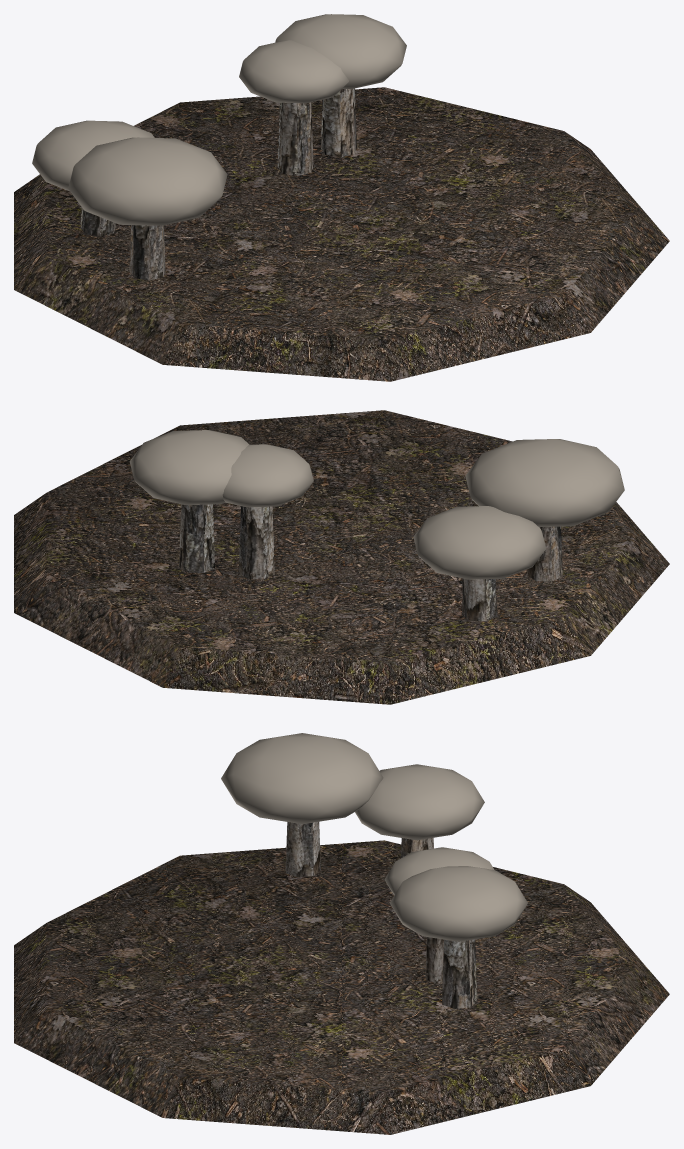
File: roots-and-fungi-v01.glb
3 views of the same model, one above another, from view 1: azimuth 30°, elevation 25°; view 2: azimuth 150°, elevation 25°; view 3: azimuth 270°, elevation 25° (orthographic).
Visible parts, largest first — view 1: roots-and-fungi; view 2: roots-and-fungi; view 3: roots-and-fungi.
Boxes of the visible parts, bbox=[...] form: roots-and-fungi: bbox=[14, 14, 669, 381]; roots-and-fungi: bbox=[14, 410, 669, 704]; roots-and-fungi: bbox=[14, 733, 669, 1134].
Size of the model in its own units: 1.54 by 0.3868 by 1.51.
3 materials, 2 textured.
